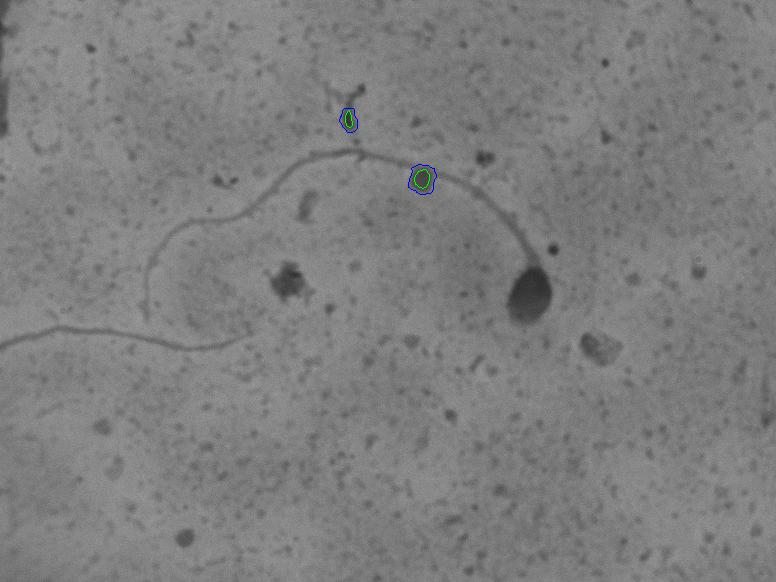Abnormal: (105, 138, 563, 389)
